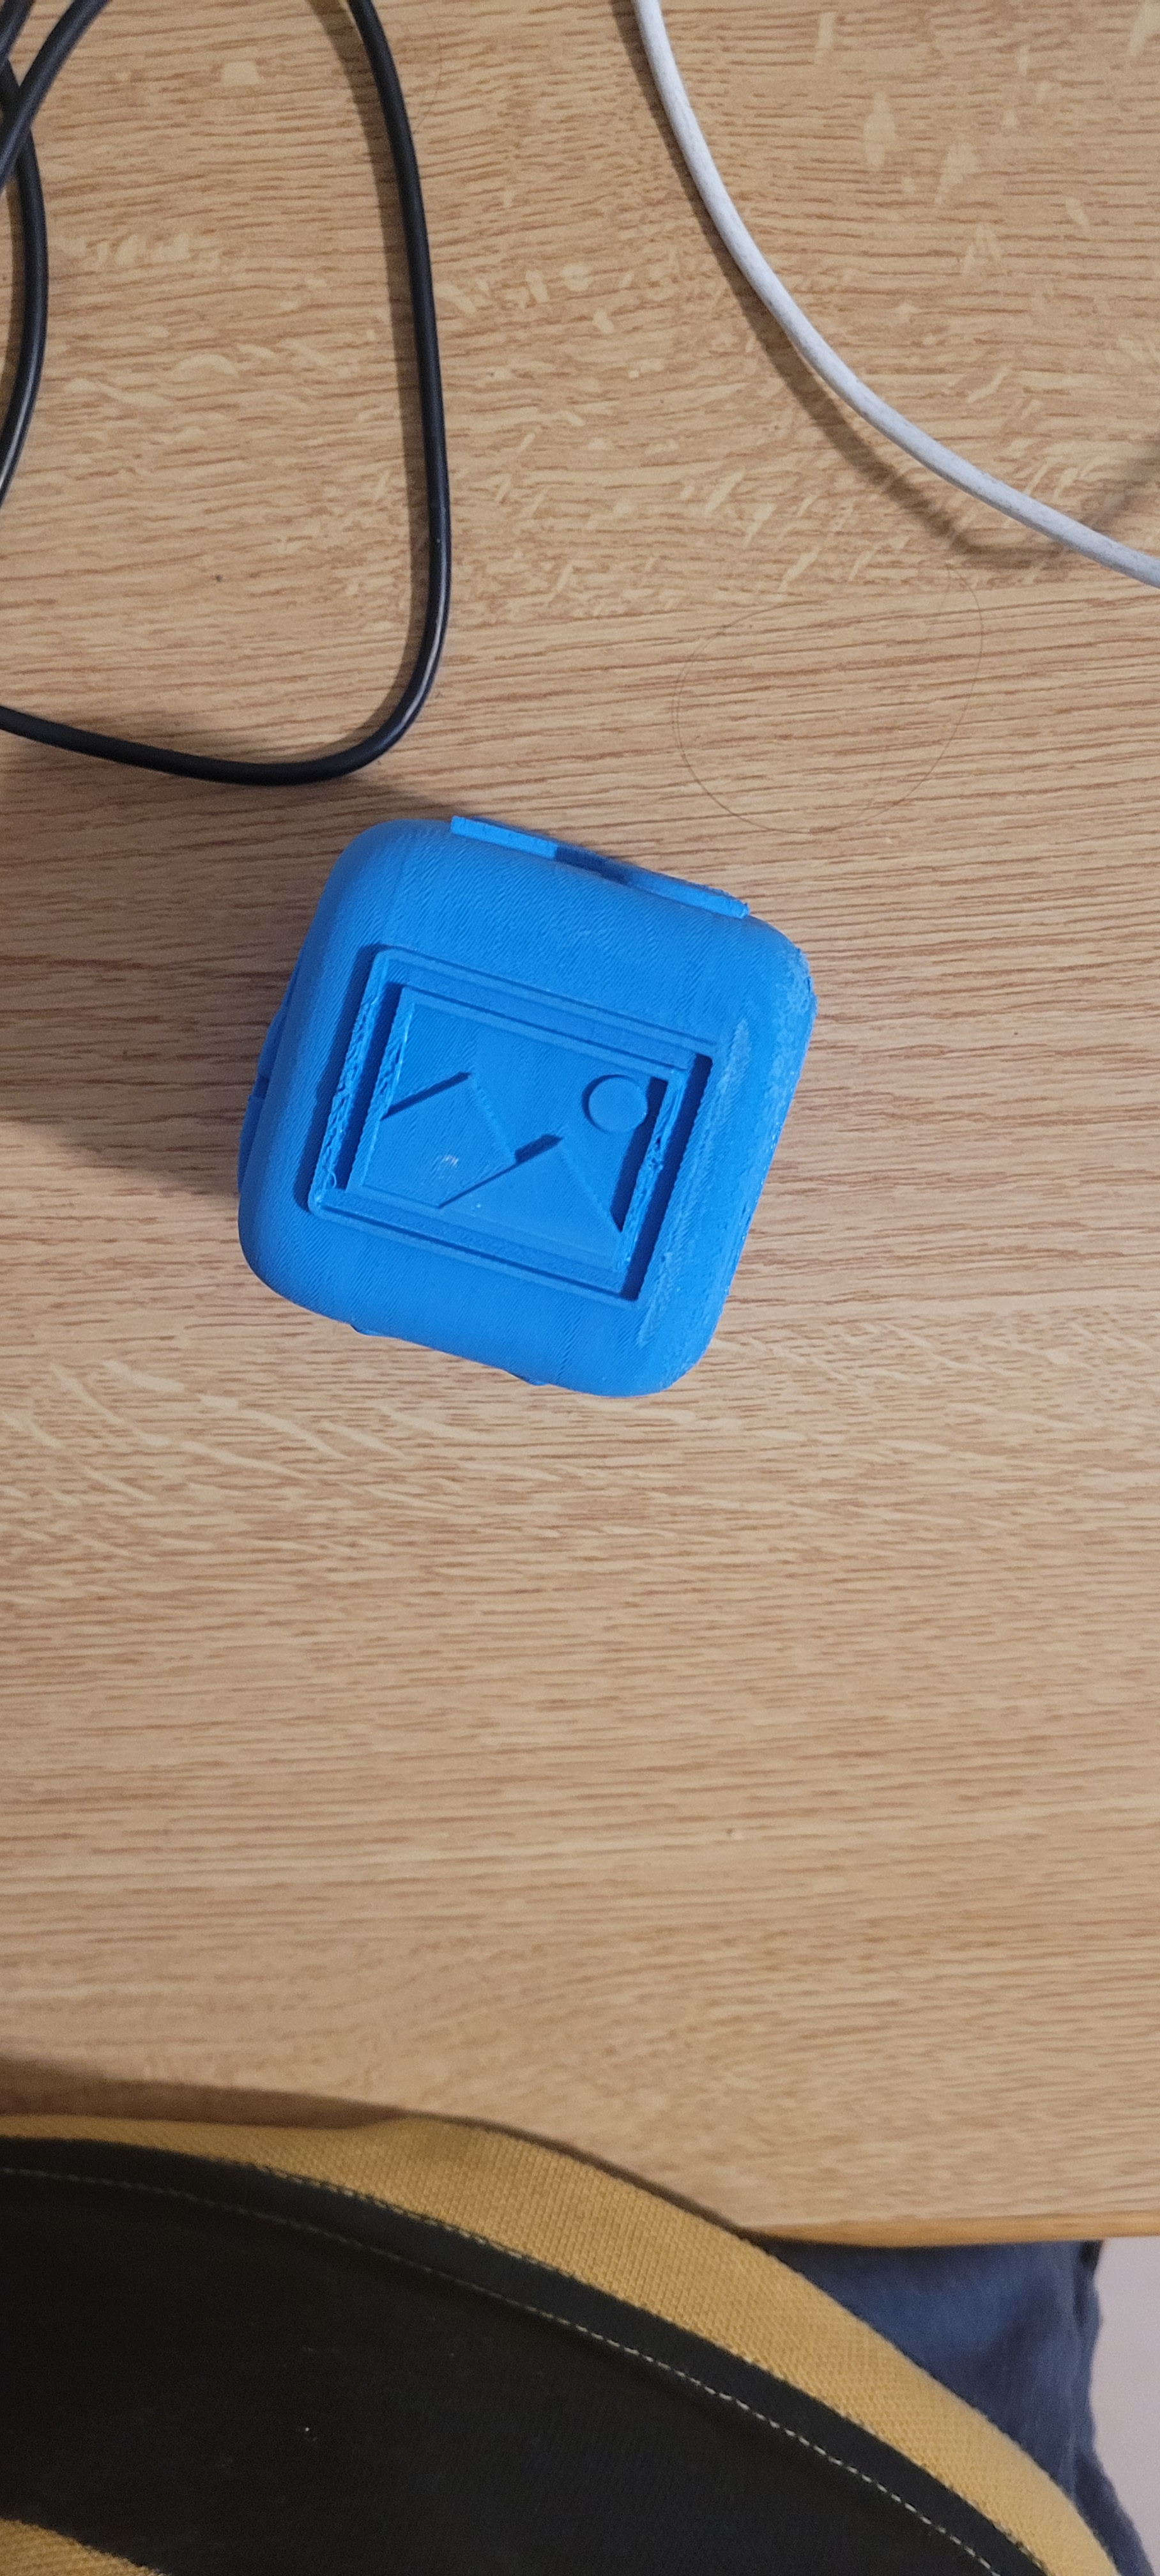Story: (288, 907, 721, 1308)
